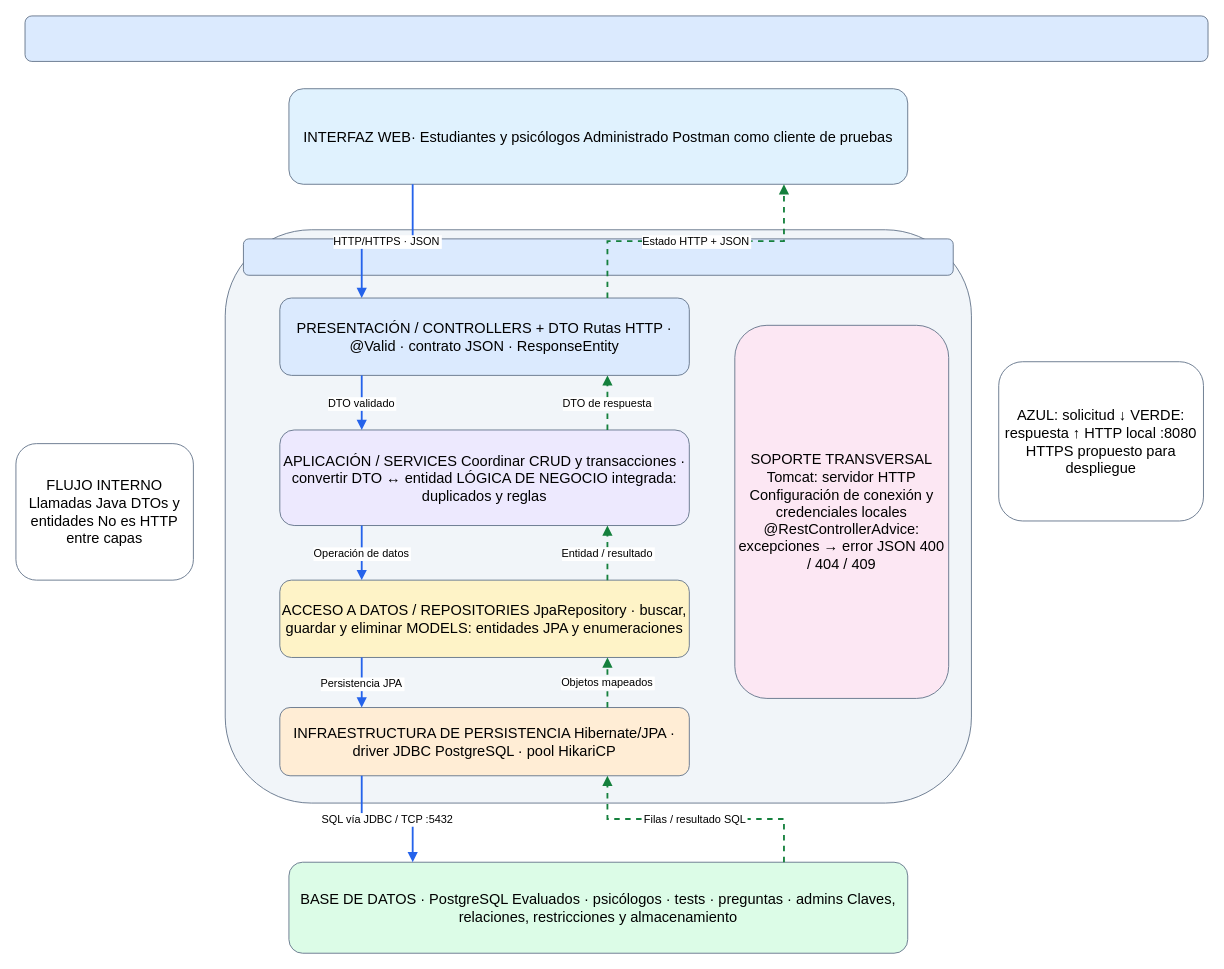
The diagram is 1224 pixels wide and 969 high, and some of its shapes have lost their labels. Each missing label, with the box of its shape:
API REST · Spring Boot · una aplicación organizada en capas: (243, 238, 953, 275)
ARQUITECTURA PROPUESTA — SISTEMA DE TESTS PSICOMÉTRICOS: (24, 15, 1208, 61)
